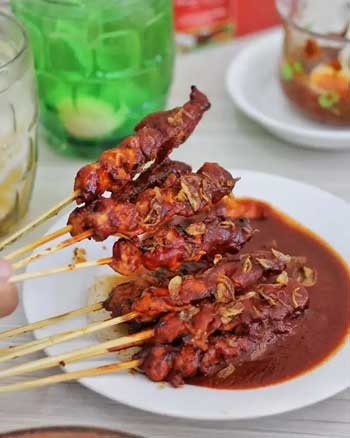sate: (0, 83, 244, 318), (0, 254, 275, 393)
